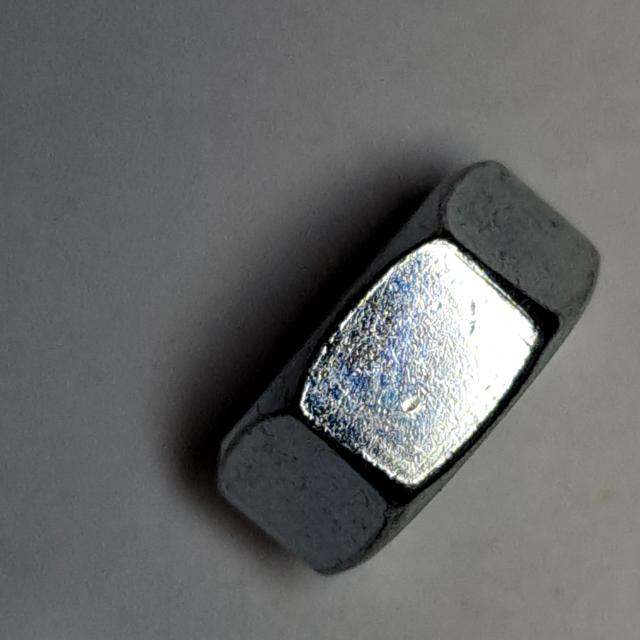Side_Excellent: (203, 147, 612, 586)
